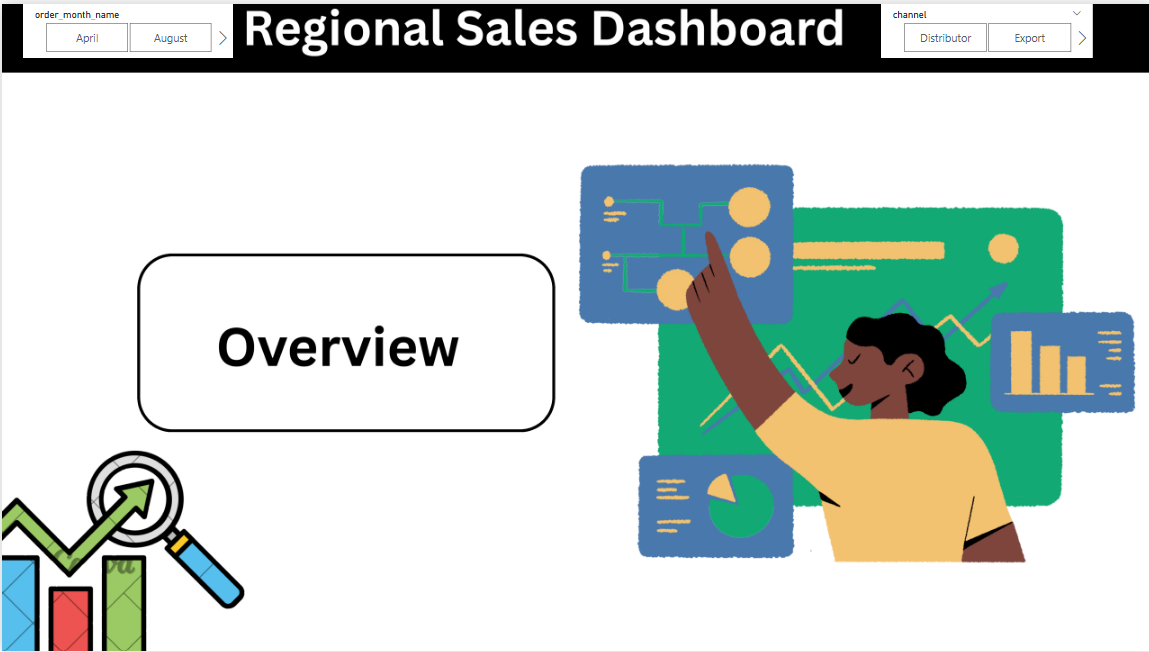

What the dashboard file says about the page in this screenshot:
{"tool":"powerbi","page":{"name":"Home","canvas":[1280,720],"ordinal":0},"visuals":[{"type":"slicer","fields":{"Values":["Sales_data(EDA Exported).channel"]},"box":[976.7,0,235,60],"z":0},{"type":"slicer","fields":{"Values":["Sales_data(EDA Exported).order_month_name"]},"box":[23.3,0,233.3,60],"z":1},{"type":"actionButton","box":[216.7,335,330,88.3],"z":2}]}

Visuals, with their boxes in screenshot pixels (x1, y1, x2, y2), scaled from the page's 1280x720 canvas onto the 1149x652 screenshot:
slicer - Sales_data(EDA Exported).channel: <region>877, 0, 1088, 54</region>
slicer - Sales_data(EDA Exported).order_month_name: <region>21, 0, 230, 54</region>
actionButton: <region>195, 303, 491, 383</region>
